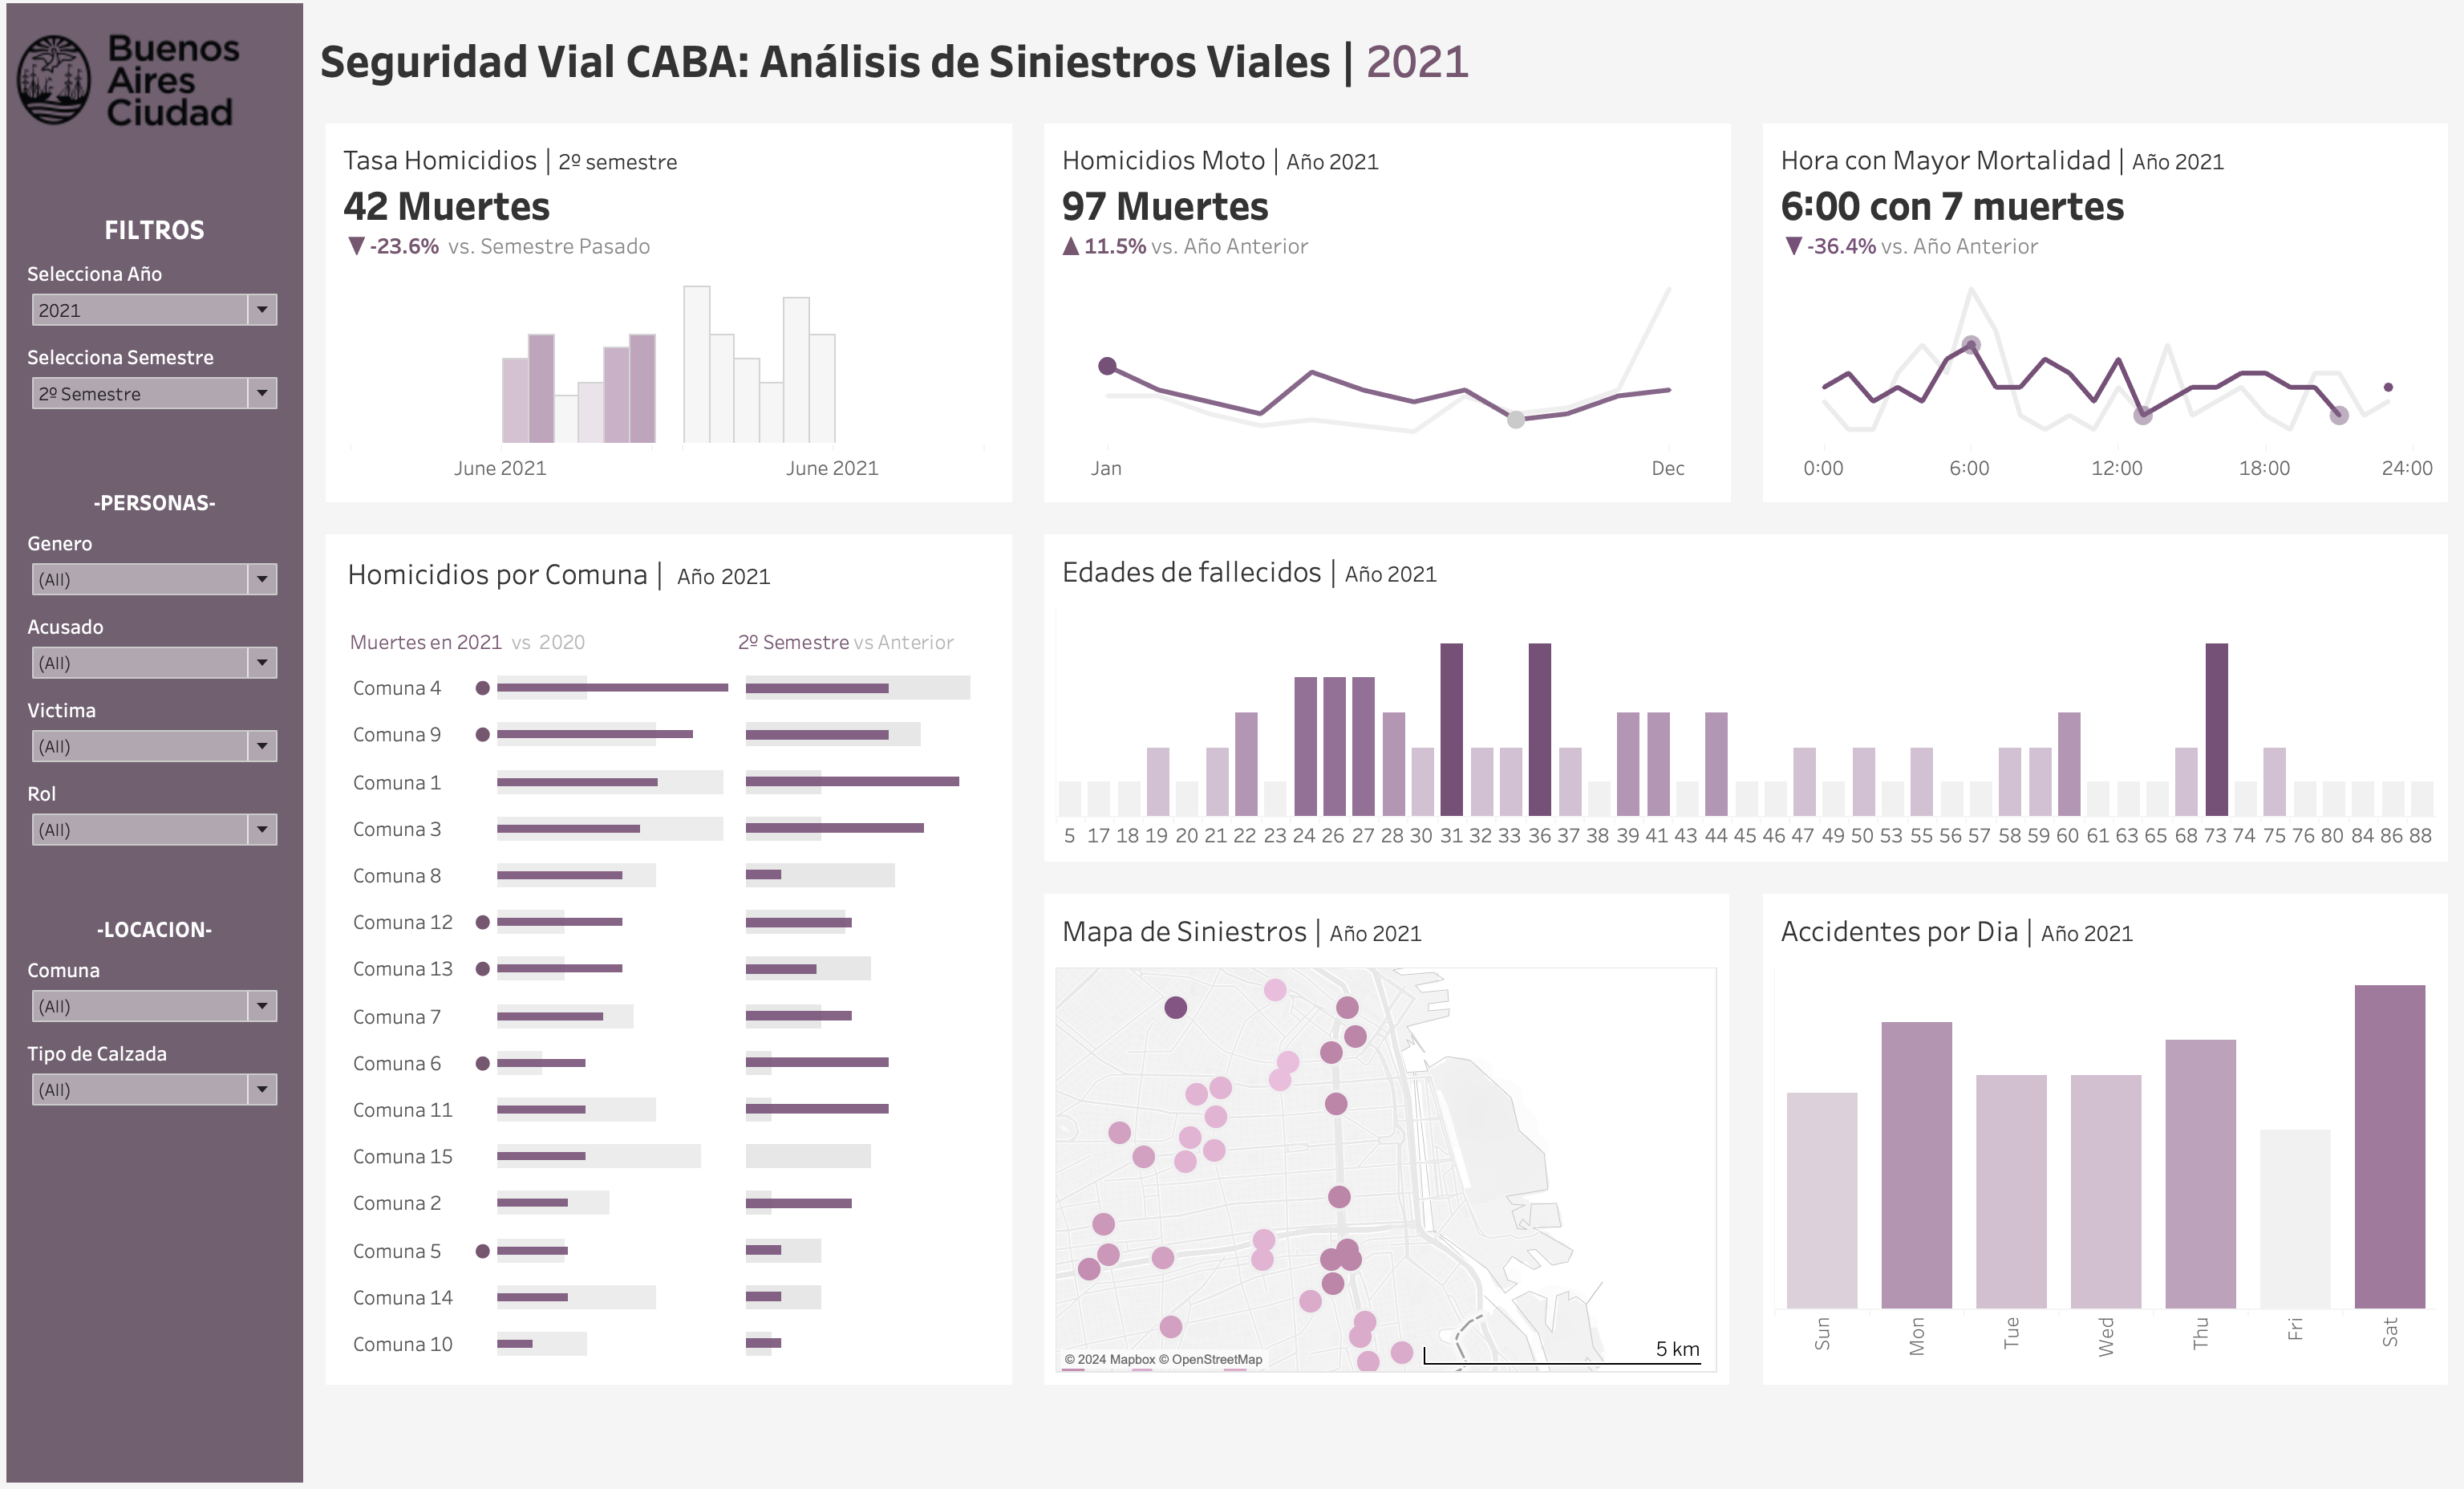

The dashboard page shown, as its layout file describes it:
{"tool":"tableau","page":{"name":"Dashboard 1","canvas":[1000,1000],"units":"permille","ordinal":0},"visuals":[{"type":"text","box":[125.7,0,874.3,91]},{"type":"blank","box":[9.8,15,106.1,134.8]},{"type":"worksheet","title":"KPI 1","mark":"Bar","cols":["fecha (siniestros_fatal_VIZ.csv)"],"box":[126,91,291.3,283.4]},{"type":"worksheet","title":"KP2","mark":"Automatic","rows":["1.4 Min/Max Nro Muertes - Semestre (copy)_113511821853626778"],"cols":["fecha (siniestros_fatal_VIZ.csv)"],"box":[417.4,91,291.3,283.4]},{"type":"worksheet","title":"New kpi","mark":"Automatic","rows":["2.4 Min/Max Nro Muertes - Año (copy)_1381901405341863938"],"cols":["hora (siniestros_fatal_VIZ.csv)"],"box":[708.7,91,291.3,283.4]},{"type":"text","box":[9.8,149.8,106.1,34.6]},{"type":"parameter","param":"[Parameters].[Parameter 1]","box":[9.8,184.3,106.1,59.9]},{"type":"parameter","param":"[Parameters].[Selecciona Año (copy)_554294603400839177]","box":[9.8,244.3,106.1,59.9]},{"type":"blank","box":[9.8,304.2,106.1,43.8]},{"type":"text","box":[9.8,347.9,106.1,30]},{"type":"worksheet","title":"Edades","mark":"Automatic","rows":["nro_victimas (siniestros_fatal_VIZ.csv)"],"cols":["edad (siniestros_fatal_VIZ.csv)"],"box":[417.5,374.4,582.5,255.2]},{"type":"filter","title":"KPI 1","param":"[federated.0w1mbwr07zf45m19ih09j1xhd7ea].[none:sexo (siniestros_fatal_VIZ.csv):n","box":[9.8,377.9,106.1,59.9]},{"type":"text","box":[138.6,394,266.2,39.2]},{"type":"worksheet","title":"Legend Comunas","mark":"Automatic","box":[138.6,433.2,182.6,41.5]},{"type":"worksheet","title":"Legend Comunas (2)","mark":"Automatic","box":[321.2,433.2,83.5,41.5]},{"type":"filter","title":"KPI 1","param":"[federated.0w1mbwr07zf45m19ih09j1xhd7ea].[none:acusado (siniestros_fatal_VIZ.csv","box":[9.8,437.8,106.1,59.9]},{"type":"worksheet","title":"KPI Comuna","mark":"Bar","rows":["comuna (siniestros_fatal_VIZ.csv)","Calculation_100275466971082752"],"cols":["3. CS Nro Muertes - Año (copy)_555631609906810881","1. CS Nro Muertes - Semestre  (copy)_555631609906749440","C Semestre (copy)_554294603400130567","Calculation_554294603390910469"],"box":[138.6,474.6,266.2,505.7]},{"type":"filter","title":"KPI 1","param":"[federated.0w1mbwr07zf45m19ih09j1xhd7ea].[none:victima (siniestros_fatal_VIZ.csv","box":[9.8,497.7,106.1,59.9]},{"type":"filter","title":"KPI 1","param":"[federated.0w1mbwr07zf45m19ih09j1xhd7ea].[none:rol (siniestros_fatal_VIZ.csv):nk","box":[9.8,557.6,106.1,59.9]},{"type":"blank","box":[9.8,617.6,106.1,36.9]},{"type":"worksheet","title":"Map","mark":"Automatic","rows":["latitud (siniestros_fatal_VIZ.csv)"],"cols":["longitud (siniestros_fatal_VIZ.csv)"],"box":[417.5,629.6,291.2,370.4]},{"type":"worksheet","title":"Dias Semana","mark":"Bar","rows":["nro_victimas (siniestros_fatal_VIZ.csv)"],"cols":["fecha (siniestros_fatal_VIZ.csv)"],"box":[708.8,629.6,291.2,370.4]},{"type":"text","box":[9.8,654.4,106.1,30]},{"type":"filter","title":"KPI 1","param":"[federated.0w1mbwr07zf45m19ih09j1xhd7ea].[none:comuna (siniestros_fatal_VIZ.csv)","box":[9.8,684.4,106.1,59.9]},{"type":"filter","title":"KPI 1","param":"[federated.0w1mbwr07zf45m19ih09j1xhd7ea].[none:tipo_calle (siniestros_fatal_VIZ.","box":[9.8,744.3,106.1,59.9]}]}

Visuals, with their boxes on the dashboard's canvas, which has no fixed pixel size, in thousandths of its width and height (x1, y1, x2, y2). These are canvas units, not pixel positions in the 2464x1489 screenshot, which may show the page scaled, cropped or inside an application window:
text: detection(126, 0, 1000, 91)
blank: detection(10, 15, 116, 150)
"KPI 1" worksheet (Bar marks): detection(126, 91, 417, 374)
"KP2" worksheet: detection(417, 91, 709, 374)
"New kpi" worksheet: detection(709, 91, 1000, 374)
text: detection(10, 150, 116, 184)
parameter: detection(10, 184, 116, 244)
parameter: detection(10, 244, 116, 304)
blank: detection(10, 304, 116, 348)
text: detection(10, 348, 116, 378)
"Edades" worksheet: detection(418, 374, 1000, 630)
"KPI 1" filter: detection(10, 378, 116, 438)
text: detection(139, 394, 405, 433)
"Legend Comunas" worksheet: detection(139, 433, 321, 475)
"Legend Comunas (2)" worksheet: detection(321, 433, 405, 475)
"KPI 1" filter: detection(10, 438, 116, 498)
"KPI Comuna" worksheet (Bar marks): detection(139, 475, 405, 980)
"KPI 1" filter: detection(10, 498, 116, 558)
"KPI 1" filter: detection(10, 558, 116, 618)
blank: detection(10, 618, 116, 654)
"Map" worksheet: detection(418, 630, 709, 1000)
"Dias Semana" worksheet (Bar marks): detection(709, 630, 1000, 1000)
text: detection(10, 654, 116, 684)
"KPI 1" filter: detection(10, 684, 116, 744)
"KPI 1" filter: detection(10, 744, 116, 804)
